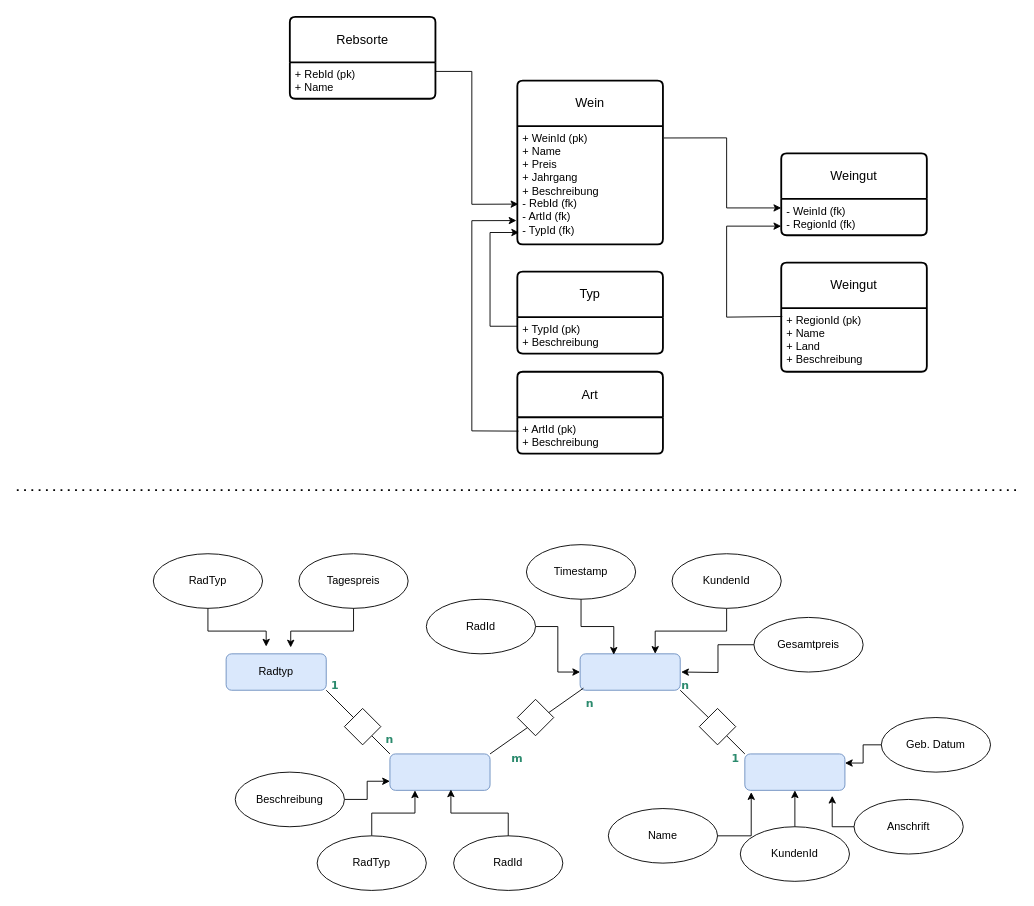
Image size: 1034x906. Some labels were removed from this diagram. The shapes that lost their labels are listed below. From the top down, each one's centre as x and y in pixels, then its label:
At (x=629, y=671): "Mietvertrag".
At (x=439, y=771): "Fahrrad".
At (x=794, y=771): "Kunde".
